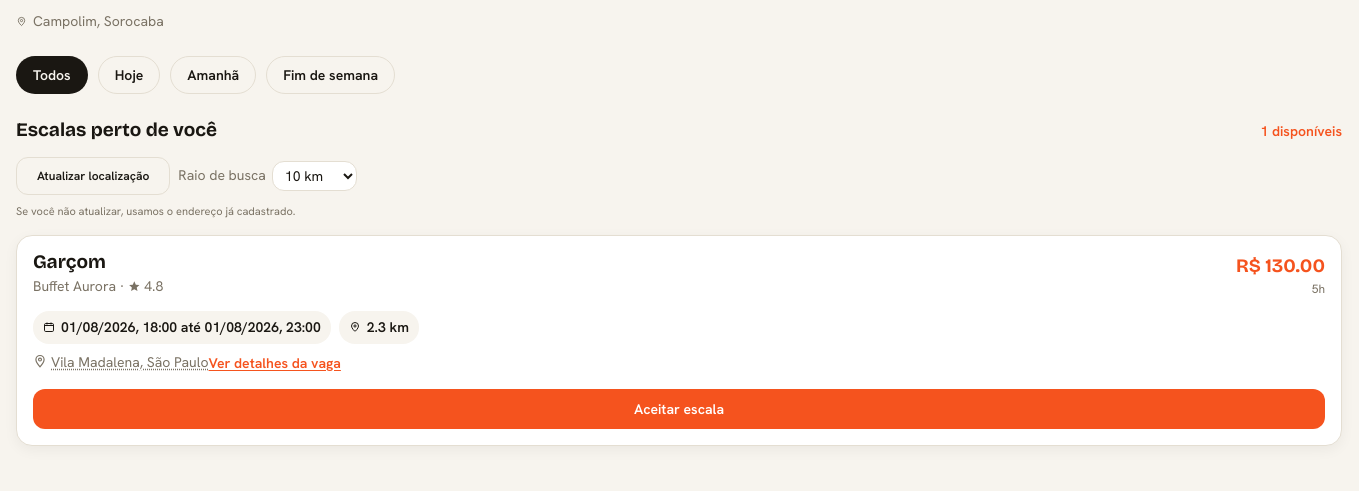
Test: InicioPage › mostra a mensagem da API quando a candidatura falha
Expected: the text "Garçom" is shown, [33,250,106,273]
What coordinates should you click on to do the following:
click the button "Aceitar escala"
I would click on:
 (679, 409)
Its box is [33,389,1325,429].
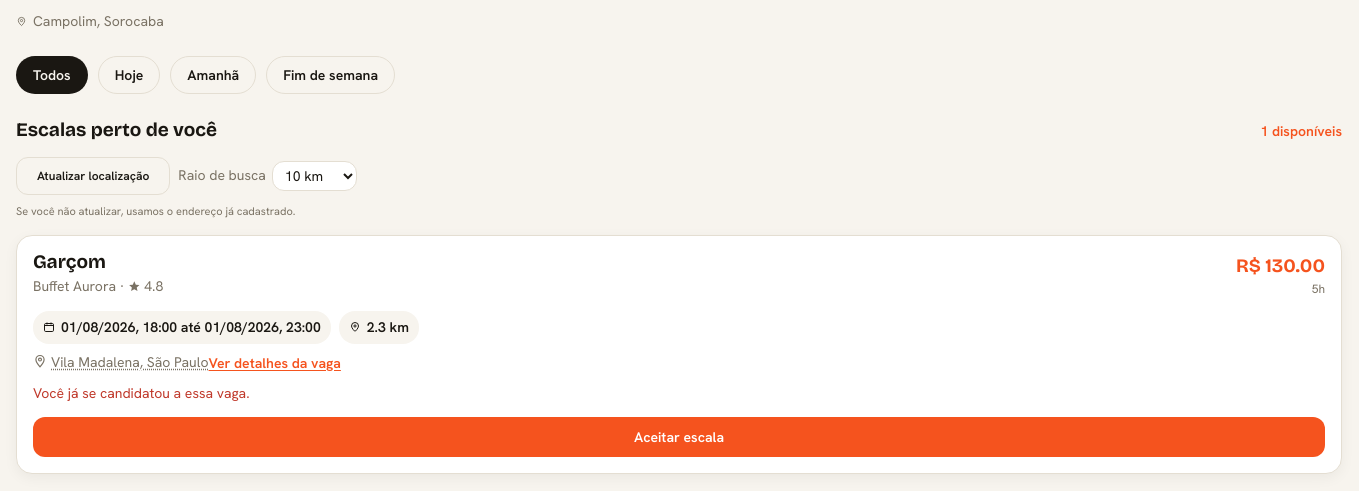
Expected: the button "Aceitar escala" is enabled, [33,417,1325,457]
Expected: the text "Você já se candidatou a essa vaga." is shown, [33,384,250,402]
